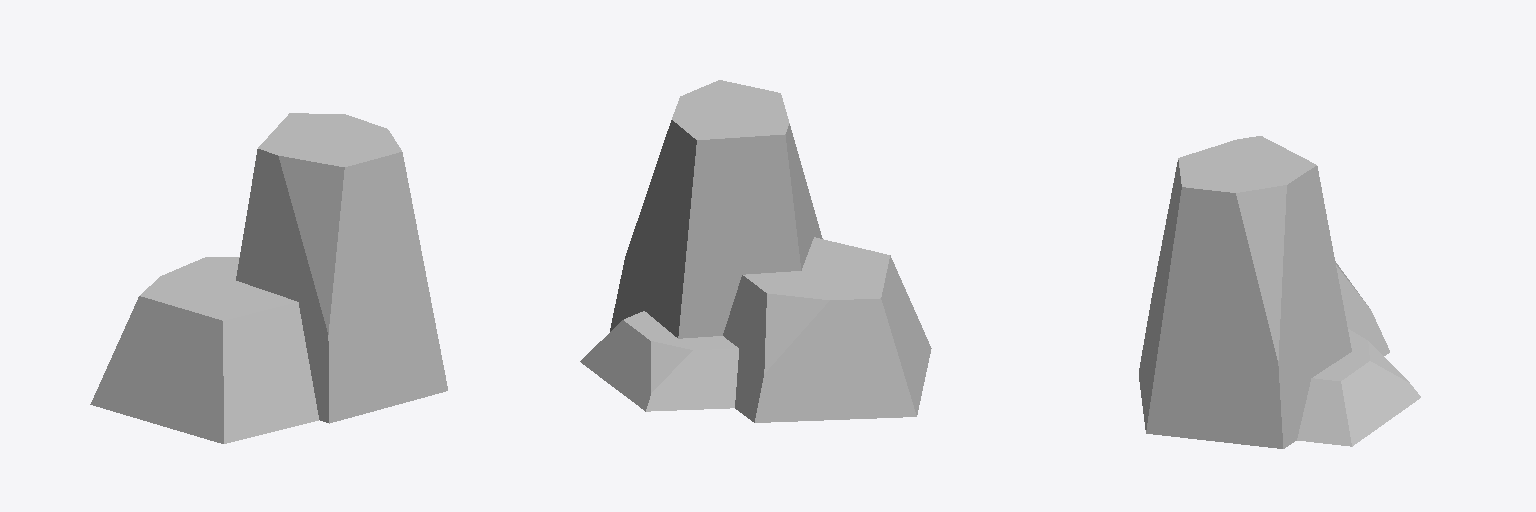
Rendered from rockA.obj.
3 views of the same model, side by side, from view 1: azimuth 30°, elevation 25°; view 2: azimuth 150°, elevation 25°; view 3: azimuth 270°, elevation 25° (orthographic).
Parts seen in each view (by area): view 1: rockA; view 2: rockA; view 3: rockA.
Boxes of the visible parts, box(x1,y1,x2,y2) form: rockA: box(90, 113, 447, 443); rockA: box(580, 80, 931, 422); rockA: box(1139, 136, 1420, 448).
Size of the model in its own units: 0.5552 by 0.3927 by 0.4324.